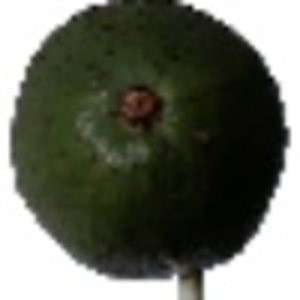abacate: (10, 2, 288, 275)
